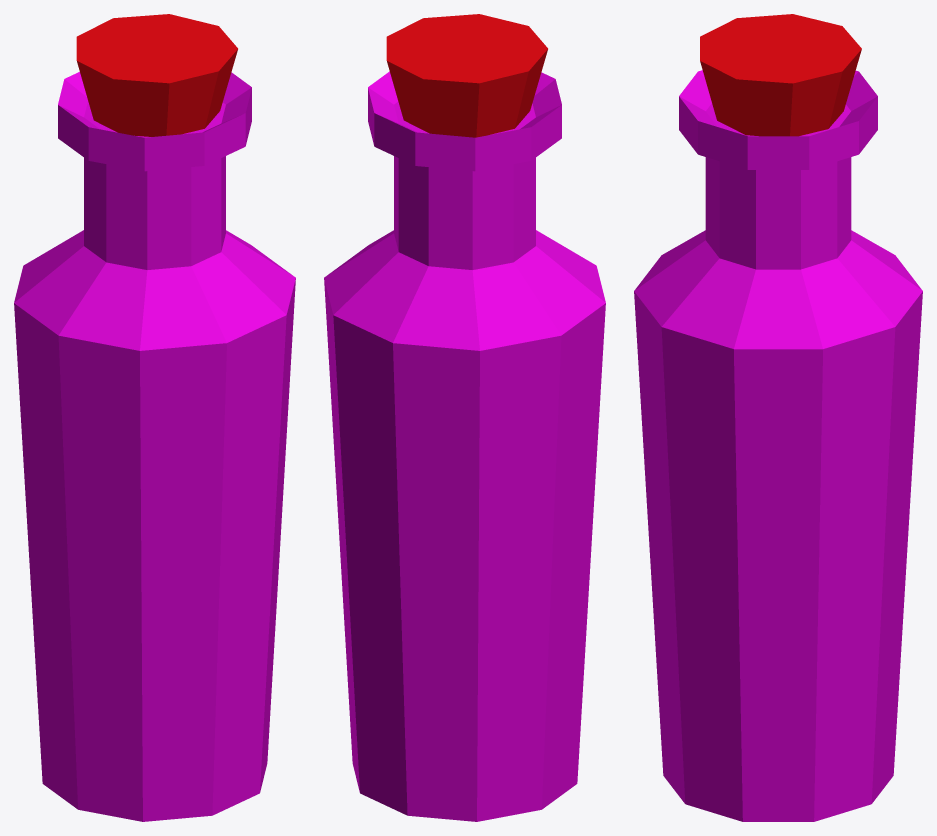
Rendered from Low-Bottle-5.fbx.
3 renders of one model, left to right at view 1: azimuth 30°, elevation 25°; view 2: azimuth 150°, elevation 25°; view 3: azimuth 270°, elevation 25°, orthographic.
Parts seen in each view (by area): view 1: Low-Bottle-5, Low-Kork-5; view 2: Low-Bottle-5, Low-Kork-5; view 3: Low-Bottle-5, Low-Kork-5.
Part boxes in pixels (x1,y1,x2,y2): Low-Bottle-5: (14, 72, 295, 821); Low-Kork-5: (76, 14, 237, 136); Low-Bottle-5: (324, 71, 605, 821); Low-Kork-5: (386, 14, 547, 137); Low-Bottle-5: (634, 70, 922, 821); Low-Kork-5: (700, 14, 861, 136).
Size of the model in its own units: 211 by 615 by 222.
